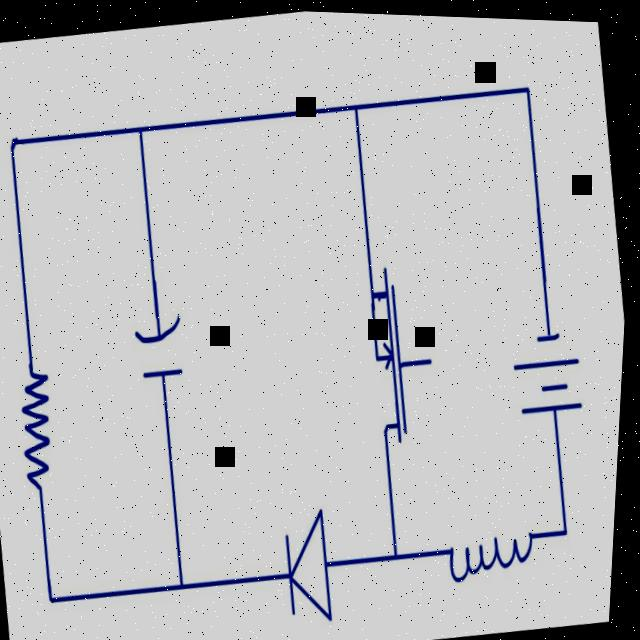capacitor: (119, 290, 199, 401)
diode: (265, 493, 362, 636)
inductor: (429, 474, 560, 601)
mosfet: (339, 243, 464, 447)
resistor: (0, 342, 90, 523)
source: (498, 284, 605, 437)
